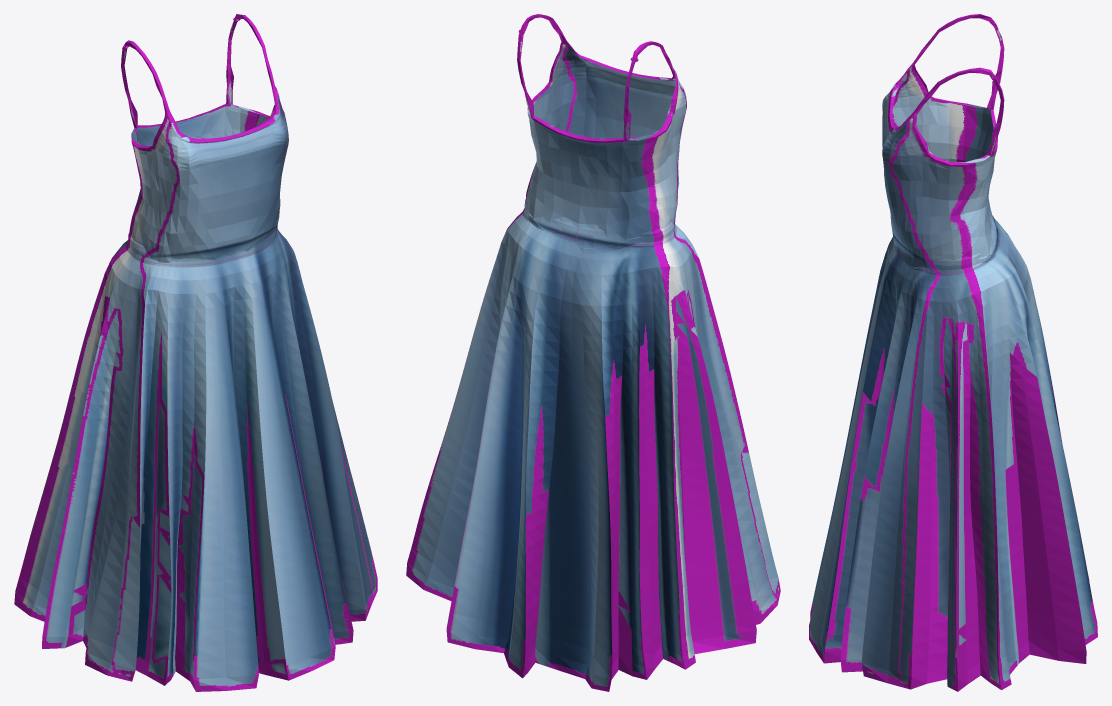
The picture shows the model from 3 angles, left to right: view 1: azimuth 30°, elevation 25°; view 2: azimuth 150°, elevation 25°; view 3: azimuth 270°, elevation 25°; orthographic projection.
Size of the model in its own units: 0.5629 by 1.01 by 0.4364.
Materials: 1 (1 with a texture image).
